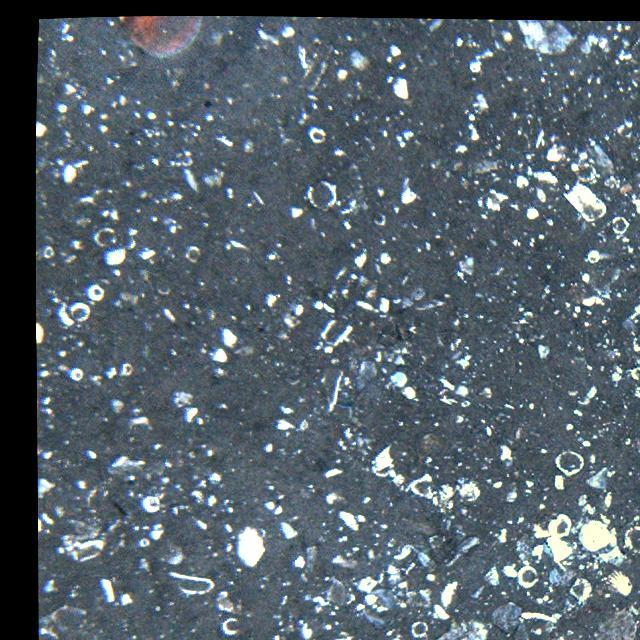scallop: (120, 12, 206, 60)
